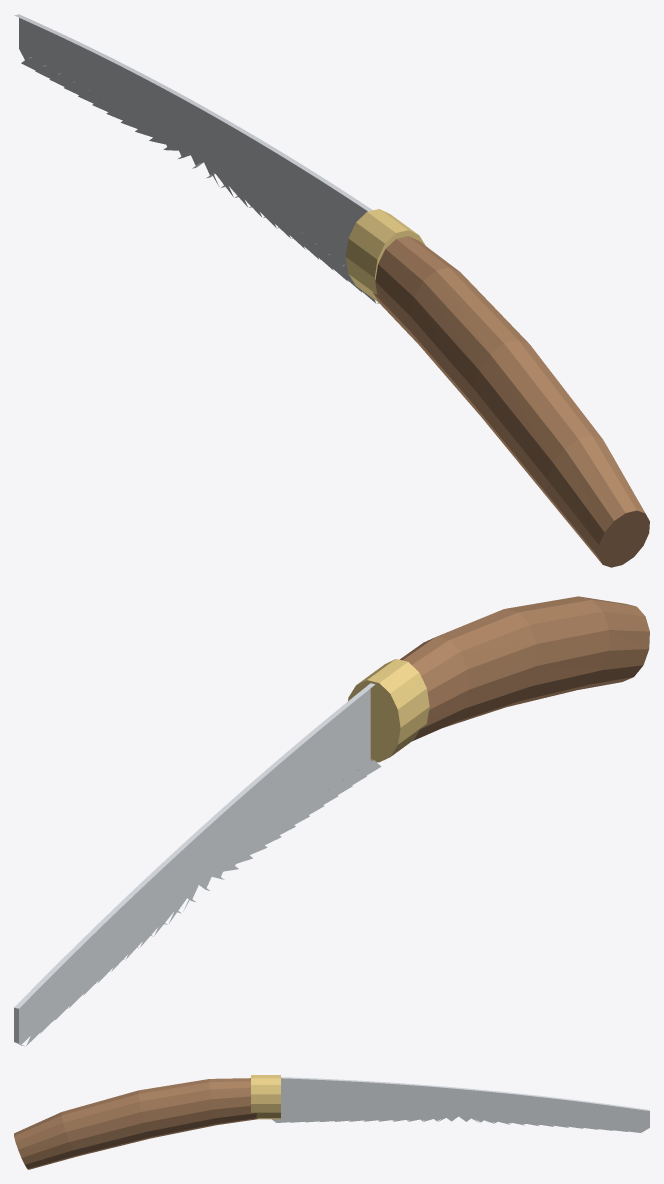
File: pruning_saw.glb
3 views of the same model, one above another, from view 1: azimuth 30°, elevation 25°; view 2: azimuth 150°, elevation 25°; view 3: azimuth 270°, elevation 25° (orthographic). The views are drawn at different scales.
Parts seen in each view (by area): view 1: SawBody; view 2: SawBody; view 3: SawBody.
Boxes of the visible parts, x1,y1,x2,y2 form: SawBody: (14, 14, 649, 567); SawBody: (14, 596, 649, 1046); SawBody: (14, 1075, 649, 1169).
Bounding box in the file's own units: 0.028 × 0.0742 × 0.4654.
